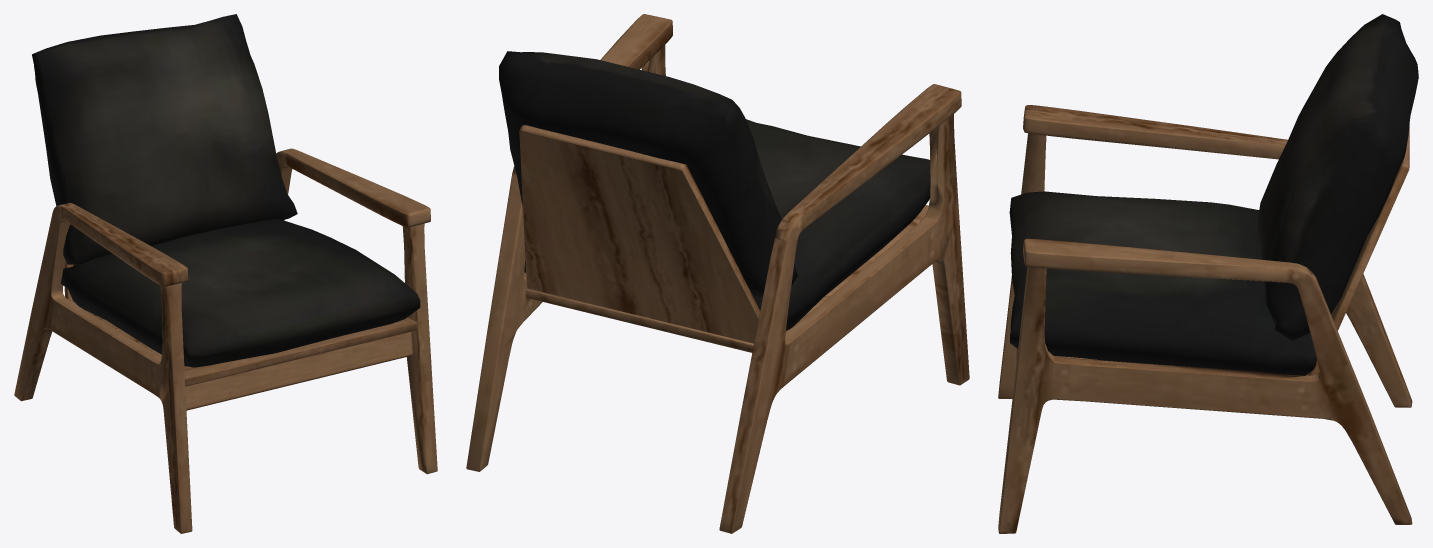
File: armchair.glb
3 views of the same model, side by side, from view 1: azimuth 30°, elevation 25°; view 2: azimuth 150°, elevation 25°; view 3: azimuth 270°, elevation 25° (orthographic). The views are drawn at different scales.
Parts seen in each view (by area): view 1: modern_arm_chair_01; view 2: modern_arm_chair_01; view 3: modern_arm_chair_01.
Boxes of the visible parts, left/top/right/bottom form: modern_arm_chair_01: left=14, top=14, right=437, bottom=533; modern_arm_chair_01: left=466, top=14, right=969, bottom=533; modern_arm_chair_01: left=998, top=14, right=1418, bottom=533.
Size of the model in its own units: 0.8203 by 1.02 by 0.9866.
Materials: 2 (2 with a texture image).
